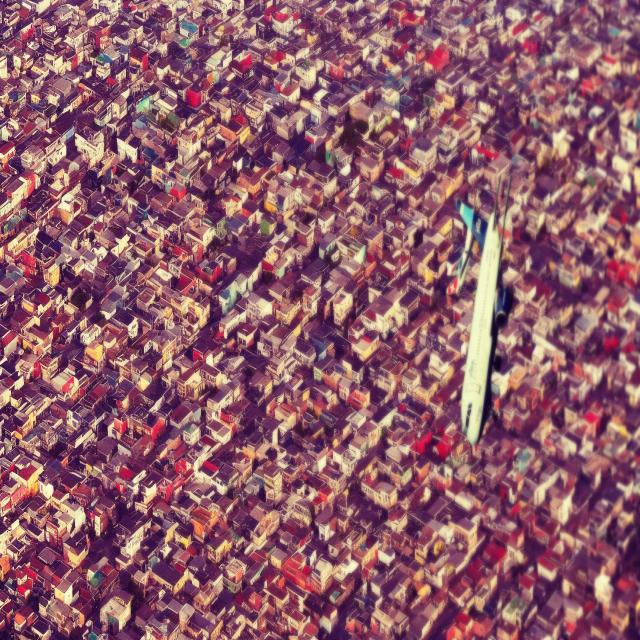airplane: (451, 171, 519, 448)
